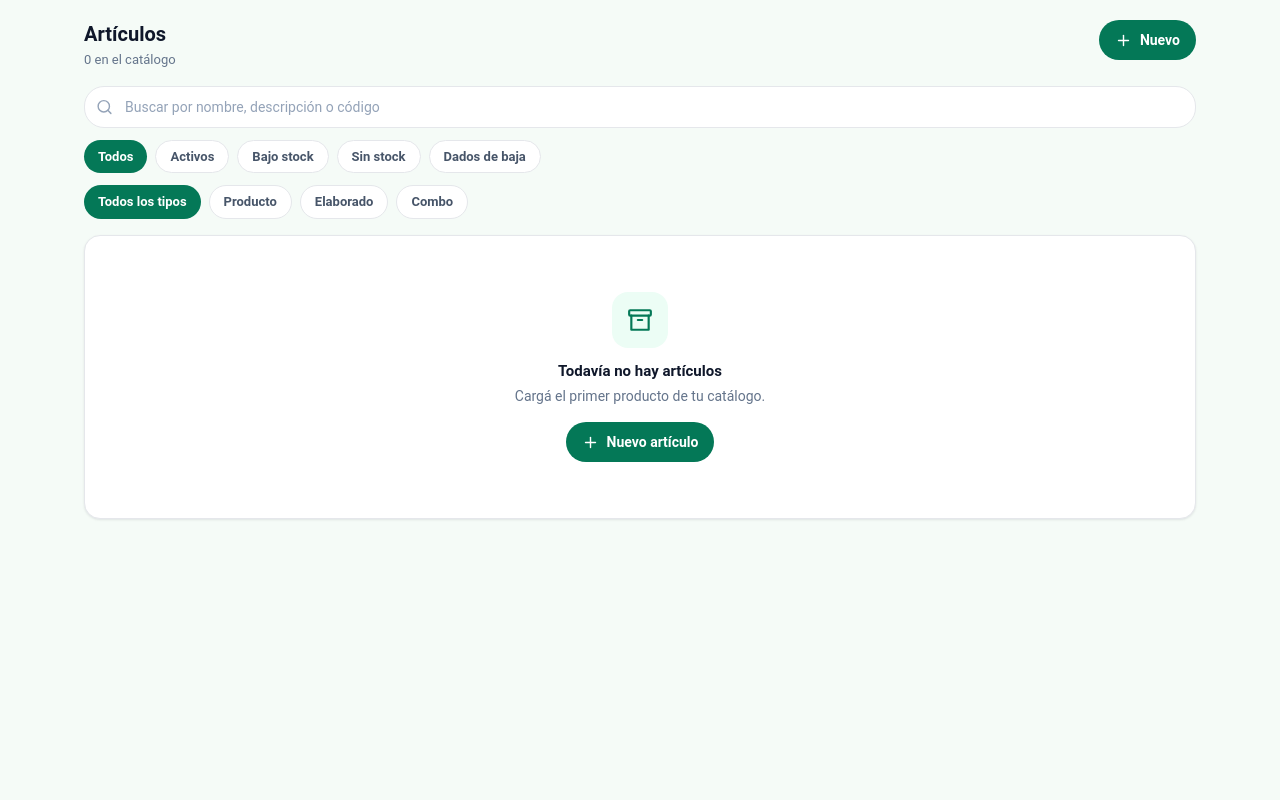
Test: el alta: el stock de un producto entra por Movimientos › restaurante: no ofrece un stock inicial que no se guarda, y dice dónde se carga
Click the button "Nuevo" at (1147, 40), box [1099,20,1196,60]
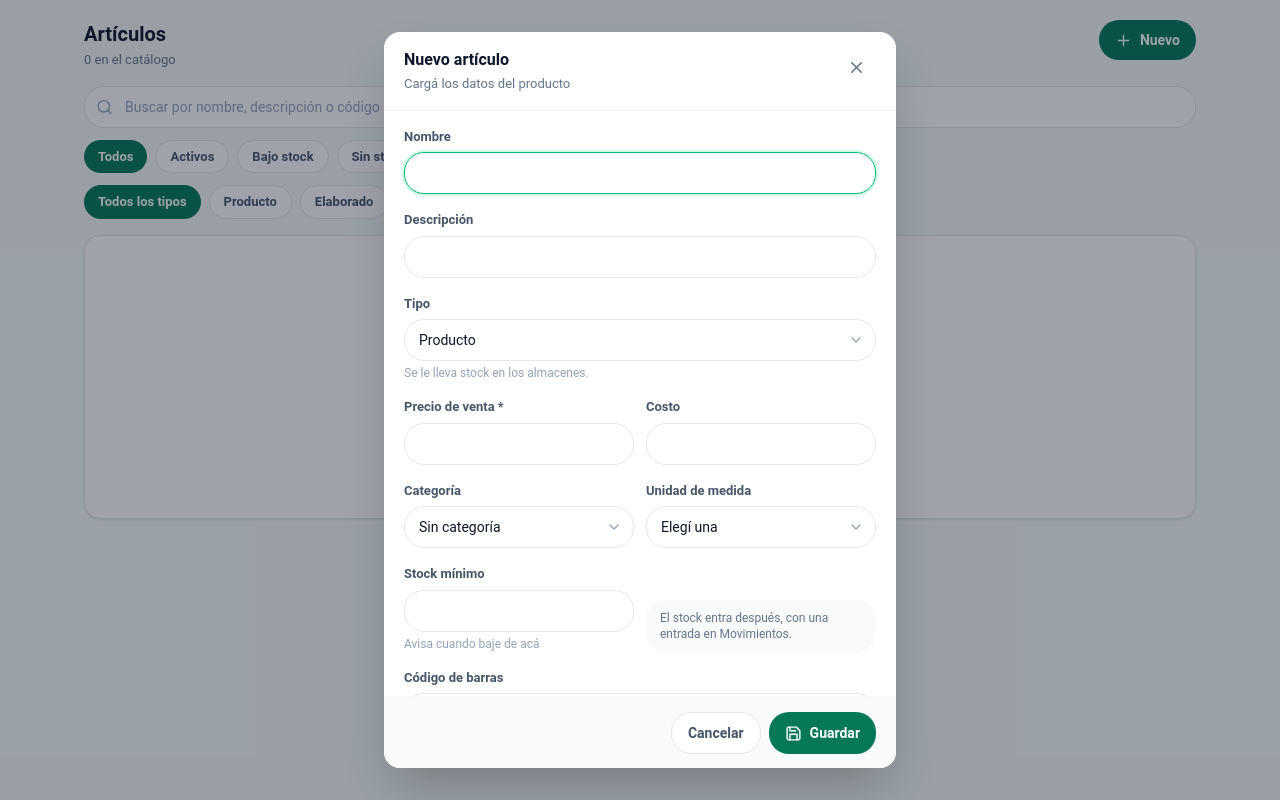
Expected: the text "El stock entra después, con una entrada en Movimientos." is shown, [646,600,876,652]
